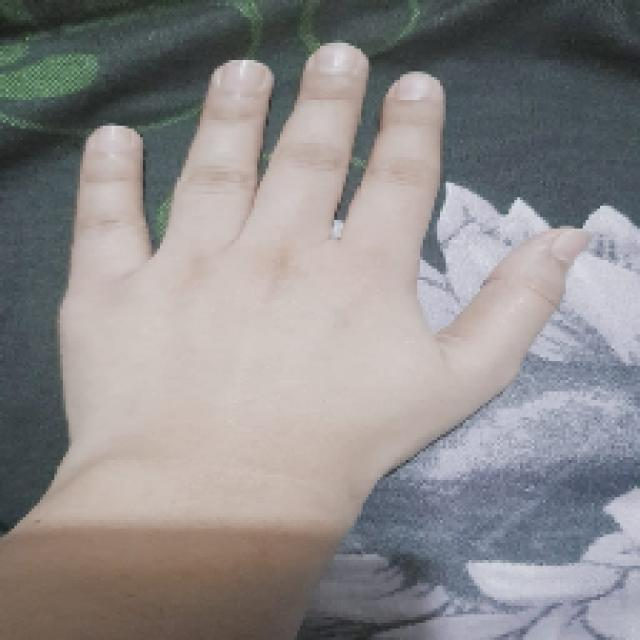Nail: (220, 60, 268, 91), (315, 42, 360, 74), (551, 228, 588, 262), (395, 72, 433, 101), (95, 126, 129, 151)
